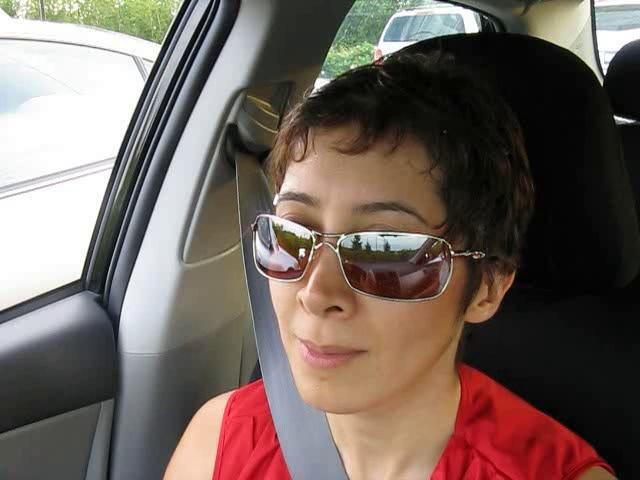no_yawn: (274, 324, 383, 381)
